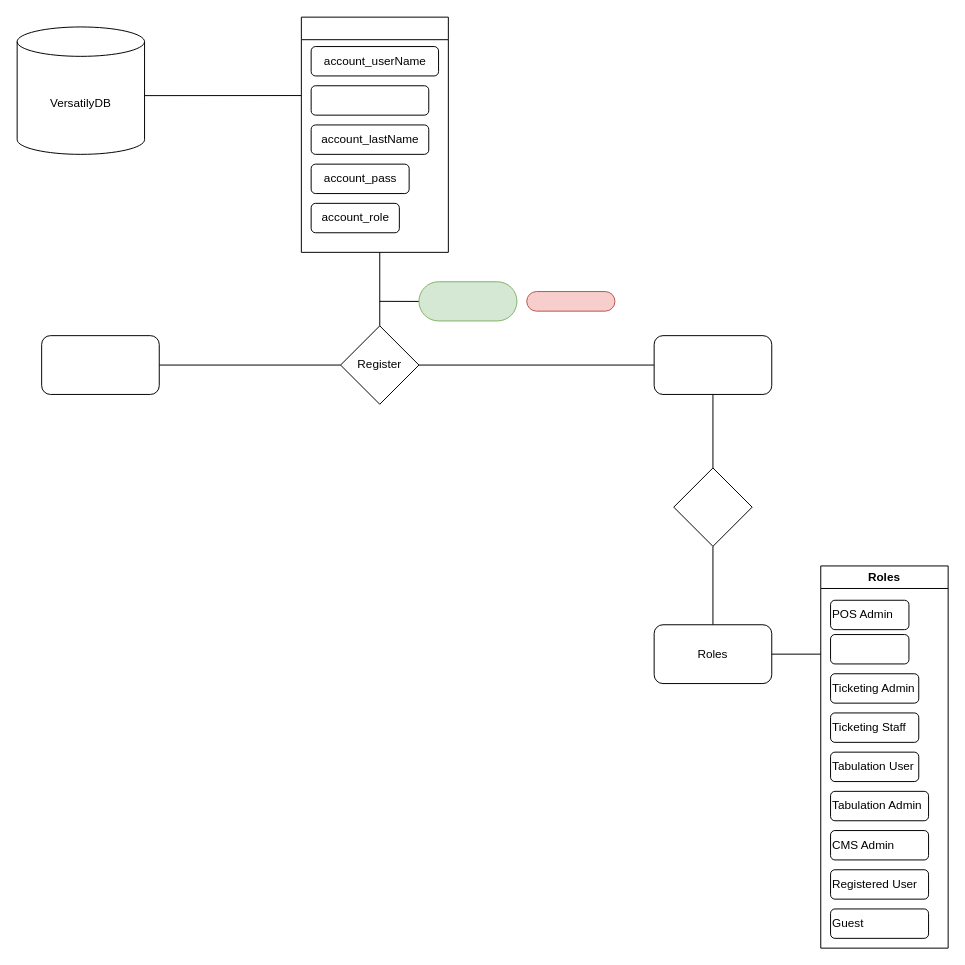
Image size: 965x965. Some labels were removed from this diagram. The shapes that lost their labels are listed below. From the top down, each one's box as (x1, y1, x2, y2) in pixels, then its label:
(310, 85, 429, 115): account_firstName
(300, 16, 448, 252): Accounts
(418, 281, 517, 321): Verify Credentials - account_userName - account_pass
(526, 291, 615, 311): PASSWORD IS HASHED
(41, 335, 159, 394): User
(653, 335, 772, 394): System
(673, 467, 752, 546): Give Role
(830, 634, 909, 664): POS Staff
